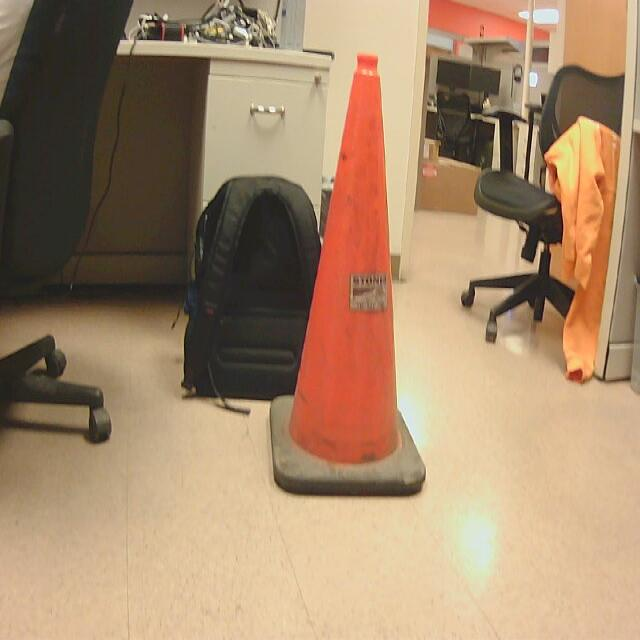traffic cone: (270, 53, 427, 501)
